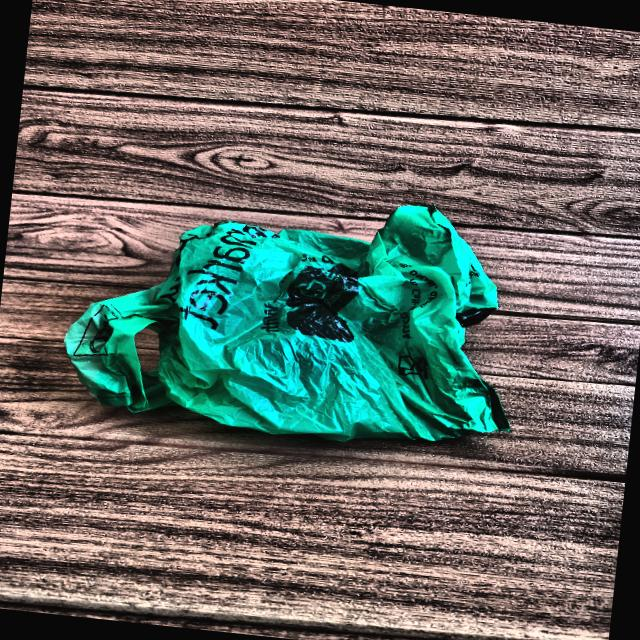plastic bag: (54, 160, 528, 472)
